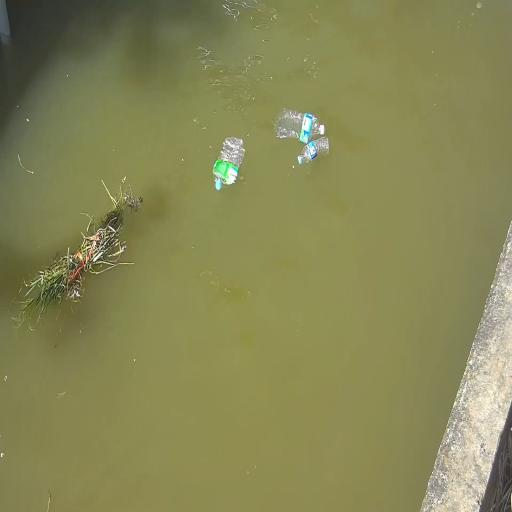plastic: (276, 109, 329, 164), (213, 137, 245, 189)
twig: (20, 186, 142, 321)
